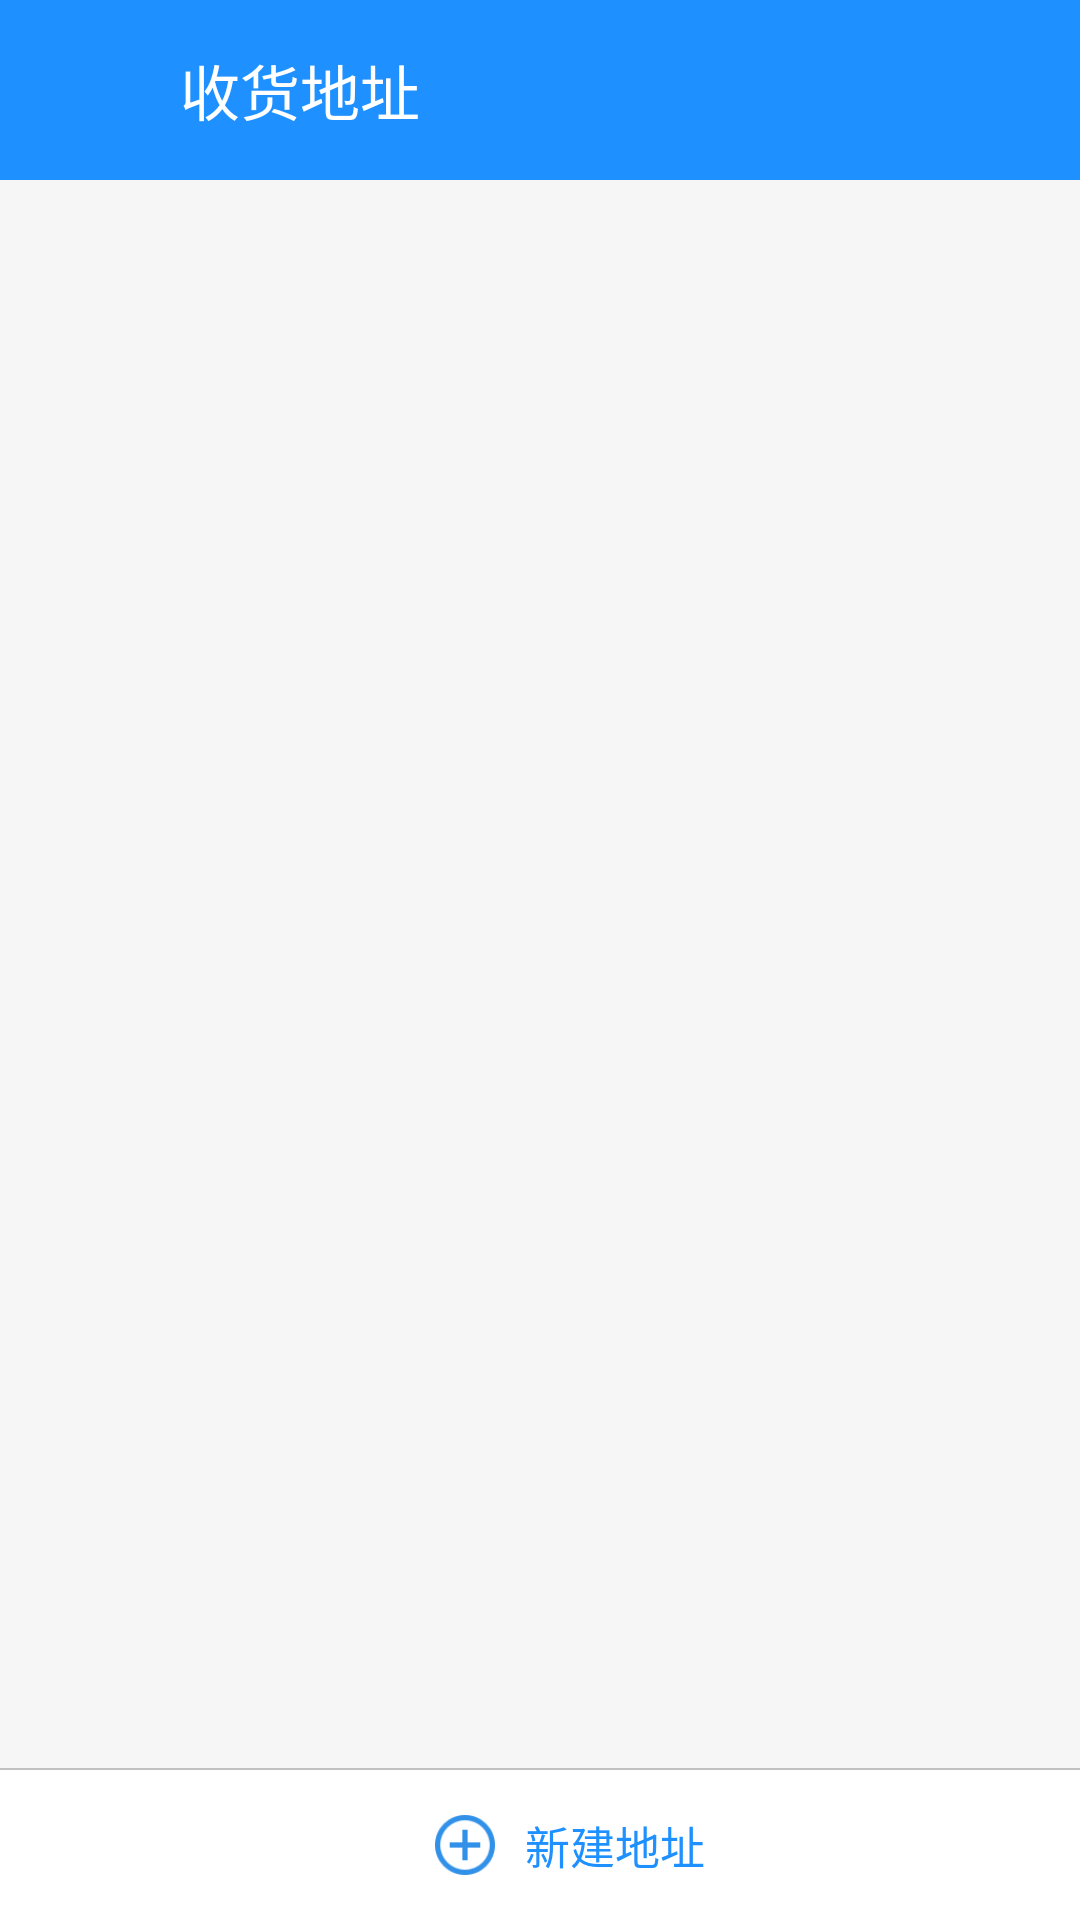

Screen size 1080*1920. Icon name, then its box in pixels as [x1=x1, y1=y1, x2=x2, y2=y2]:
add: [x1=435, y1=1815, x2=495, y2=1875]
